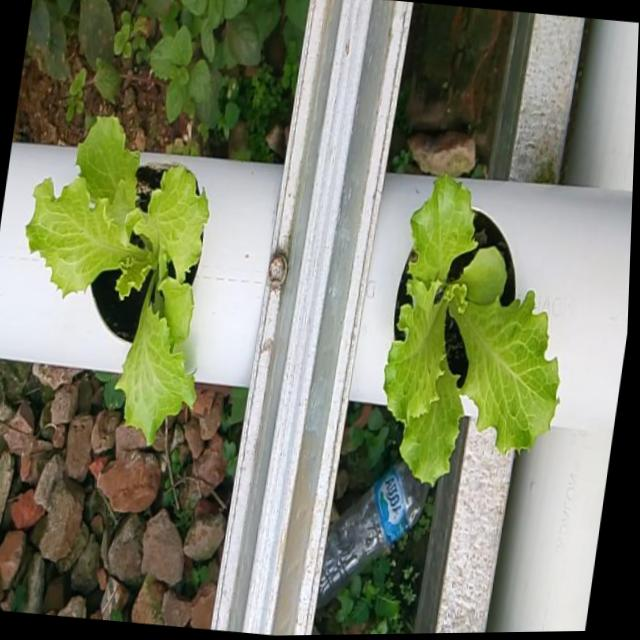Baby: (23, 110, 207, 440), (382, 166, 559, 480)
